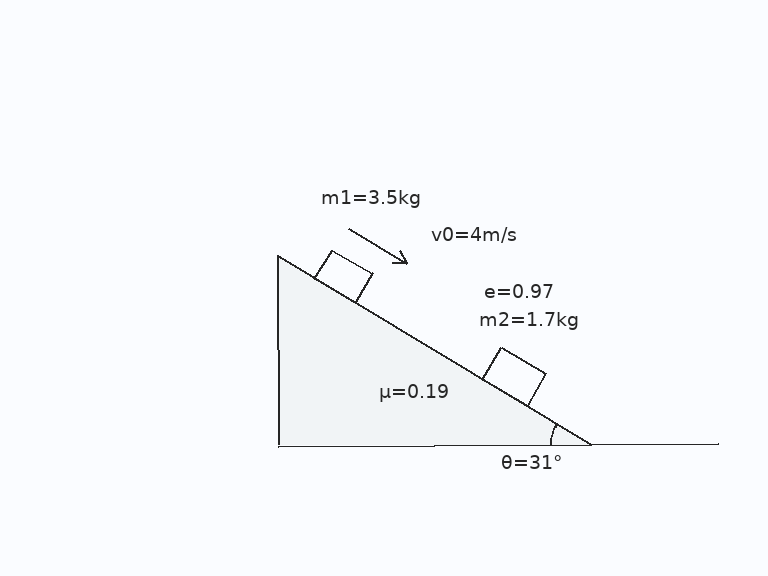block: (480, 345, 547, 407), (313, 247, 374, 304)
ramp: (276, 254, 593, 446)
